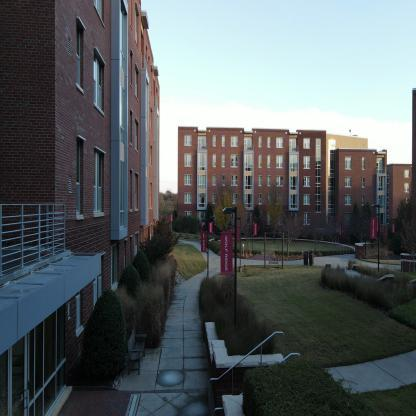Wolf Ridge: (0, 8, 167, 416), (174, 105, 416, 277)
